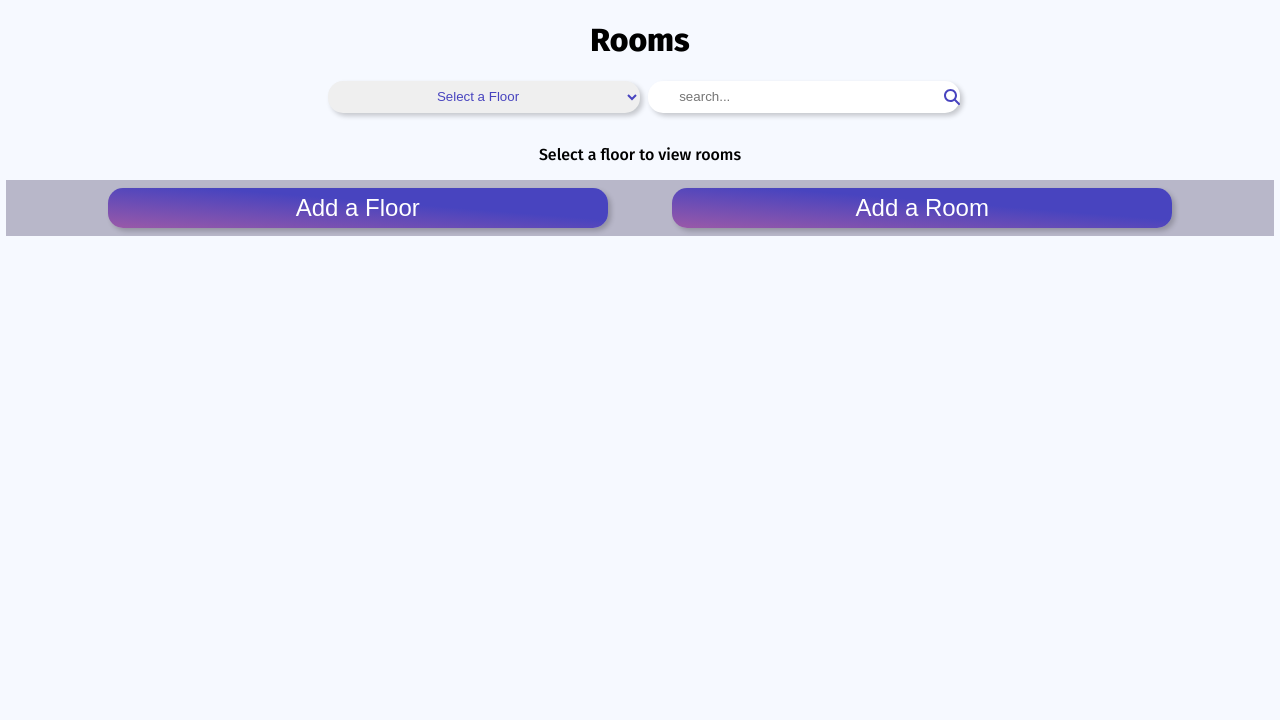
Test: Rooms page › opens add a floor modal
Click the button "Add a Floor". click: coordinates (358, 208)
box: [108, 188, 608, 228]
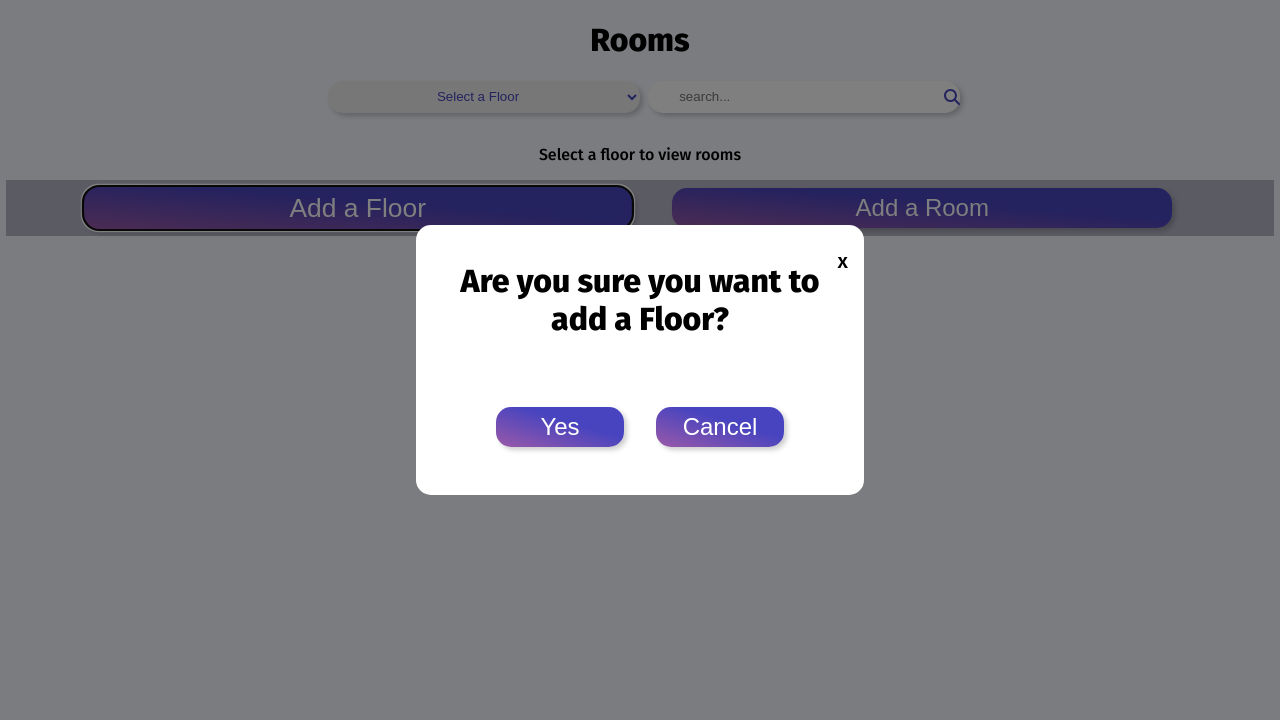
Expected: the button "Yes" is shown, [496, 407, 624, 447]
Expected: the button "Cancel" is shown, [656, 407, 784, 447]
